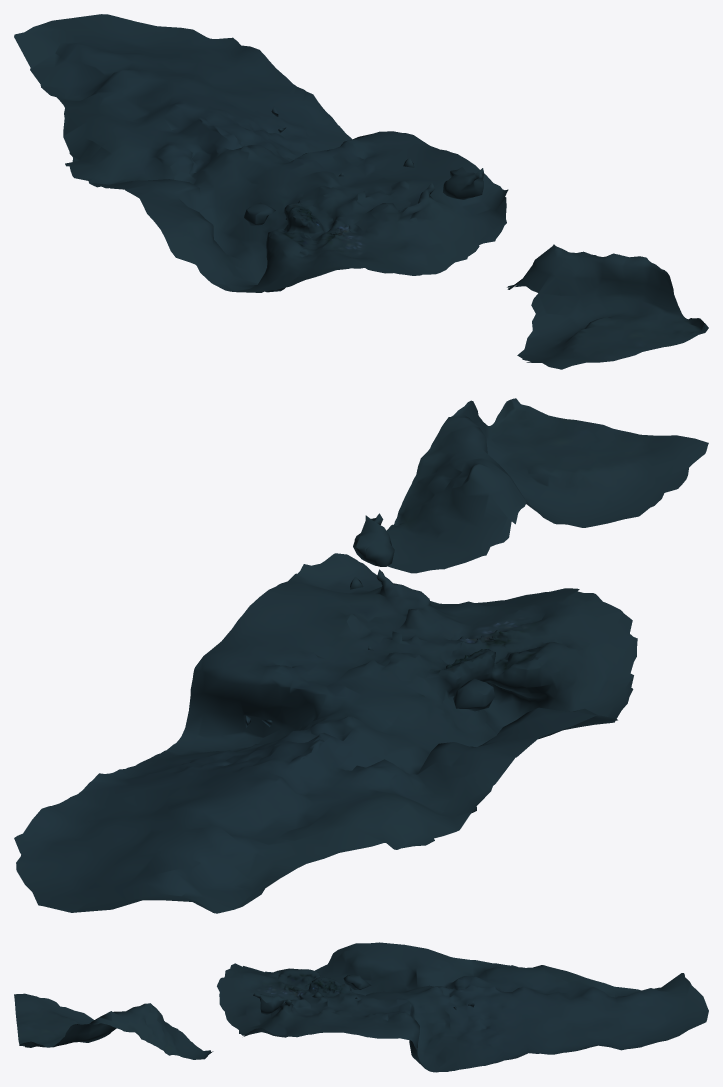
3 renders of one model, top to bottom at view 1: azimuth 30°, elevation 25°; view 2: azimuth 150°, elevation 25°; view 3: azimuth 270°, elevation 25°, orthographic. The views are drawn at different scales.
Visible parts, largest first — view 1: Model; view 2: Model; view 3: Model.
Part boxes in pixels (x1,y1,x2,y2): Model: (14, 14, 708, 369); Model: (14, 398, 708, 913); Model: (14, 942, 708, 1072).
Bounding box in the file's own units: 539 × 1508 × 184.
